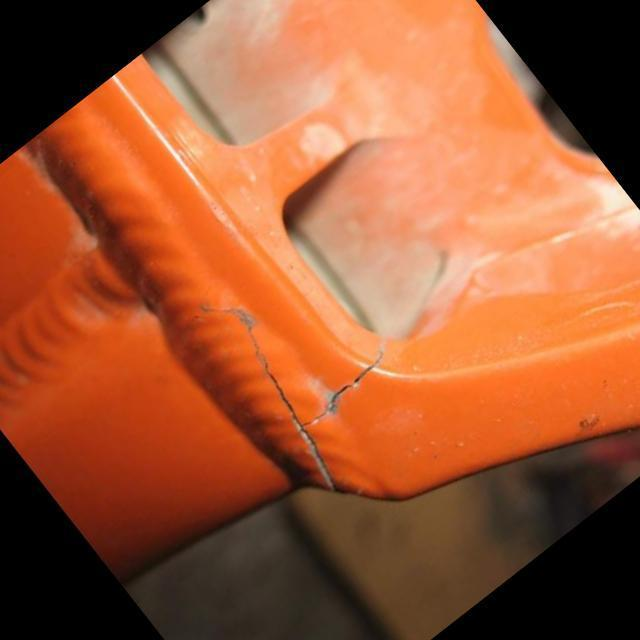defect: (193, 277, 390, 495)
